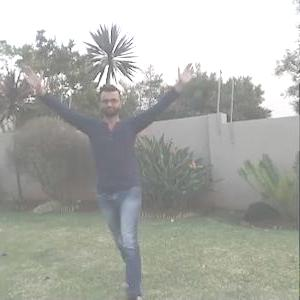takeoff: (24, 61, 195, 296)
